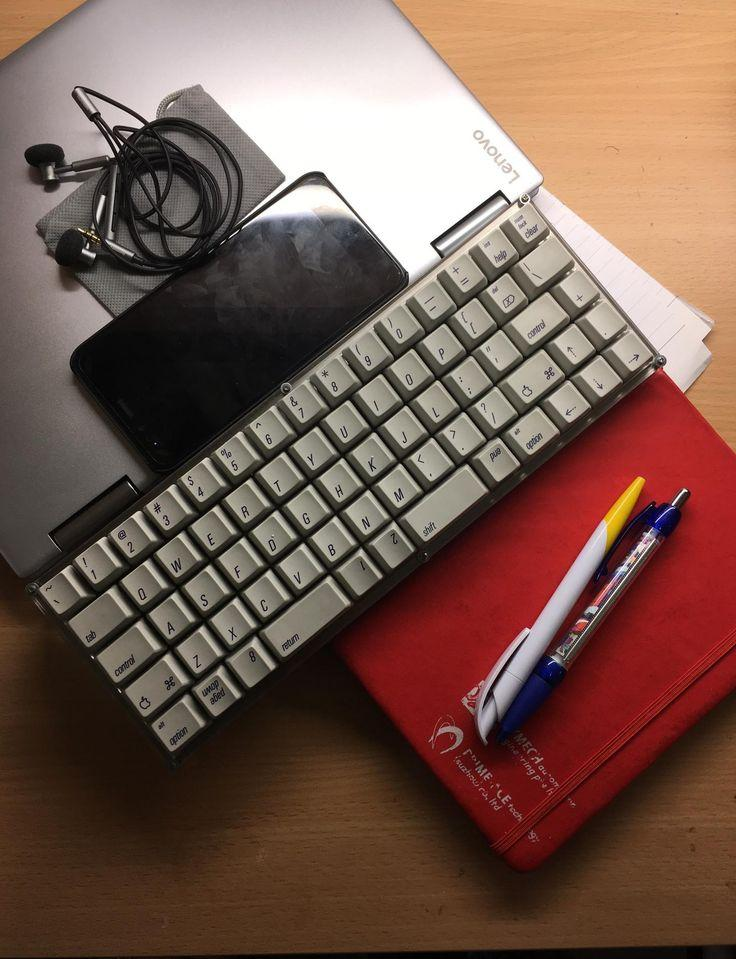keyboard: (25, 192, 667, 769)
